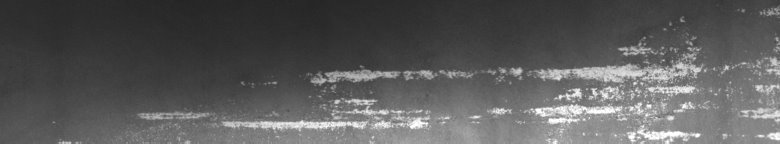kb: (138, 8, 776, 136)
